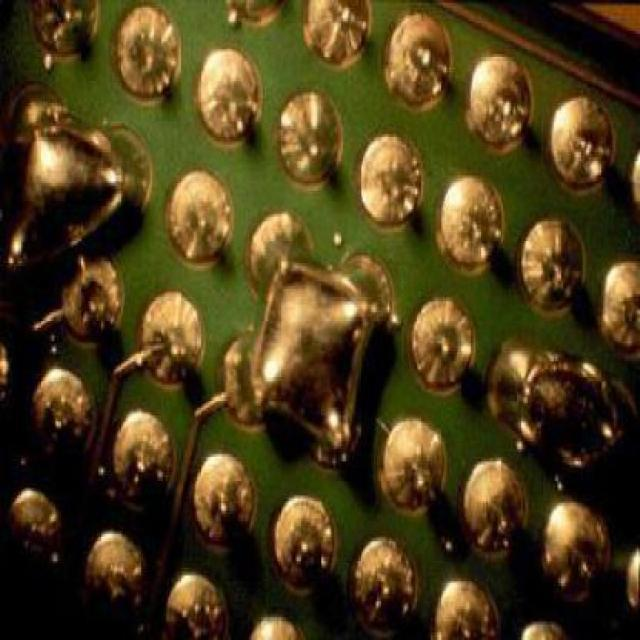Soldering shorted: (232, 223, 382, 454), (5, 87, 147, 270)
